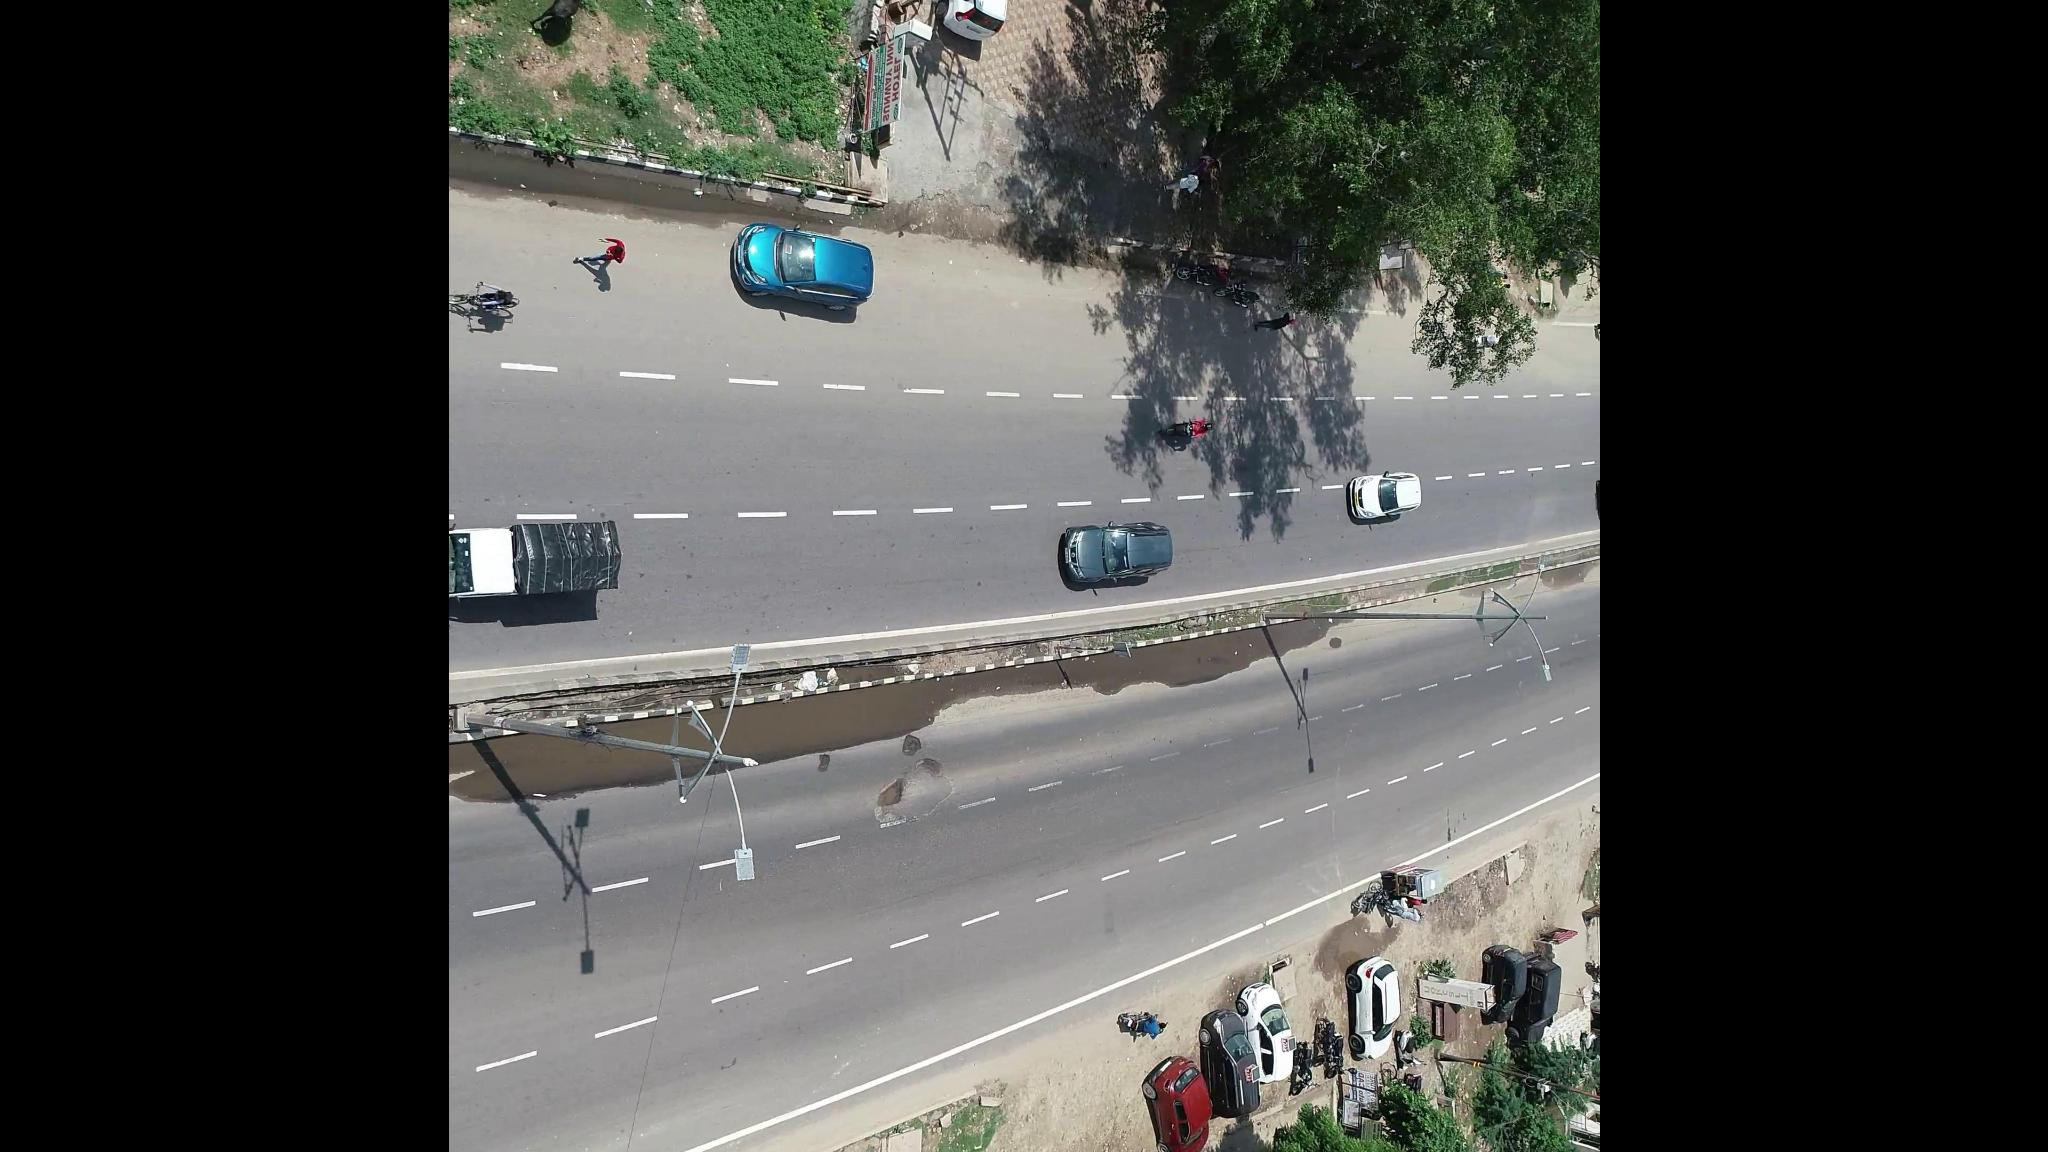Potholes: (875, 736, 955, 833)
Waterlogging: (747, 691, 927, 765), (1084, 636, 1265, 700), (464, 748, 625, 816)
